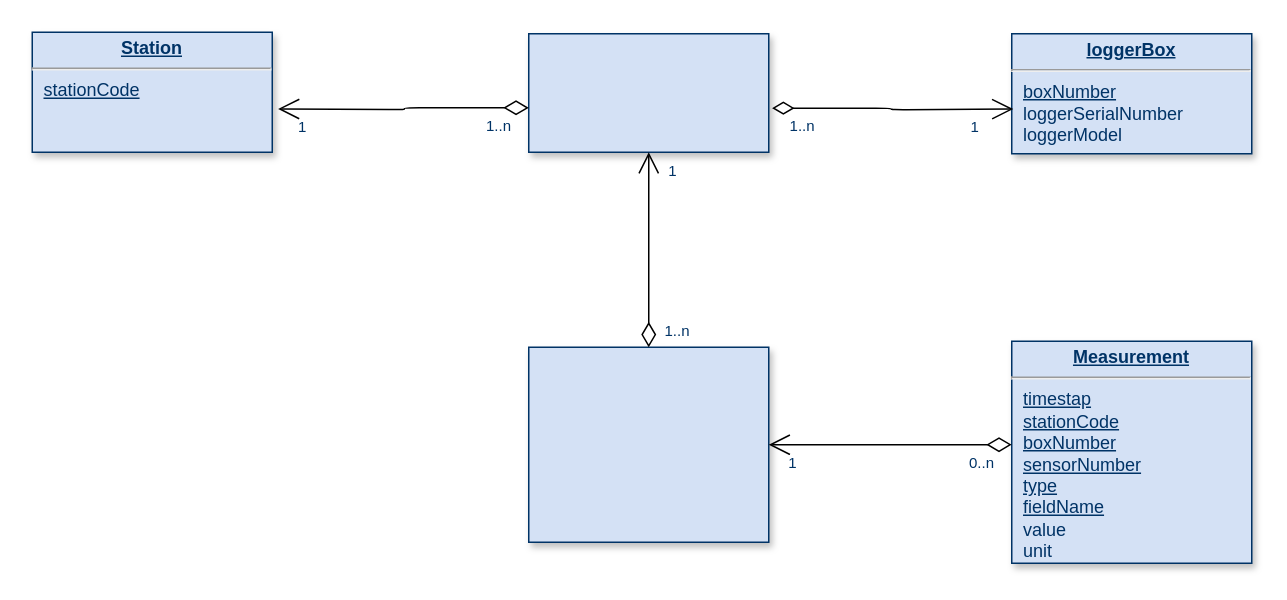
Some shapes in this 1287 by 600 pixel diagram are drawn without their labels. The shapes that lost their labels are listed below. From the top down, each one's centre as x and y in pixels, then its label:
[649,94]: StationBox stationCode boxNumber
[649,446]: Sensor stationCode boxNumber sensorNumber type loggerVarName port
